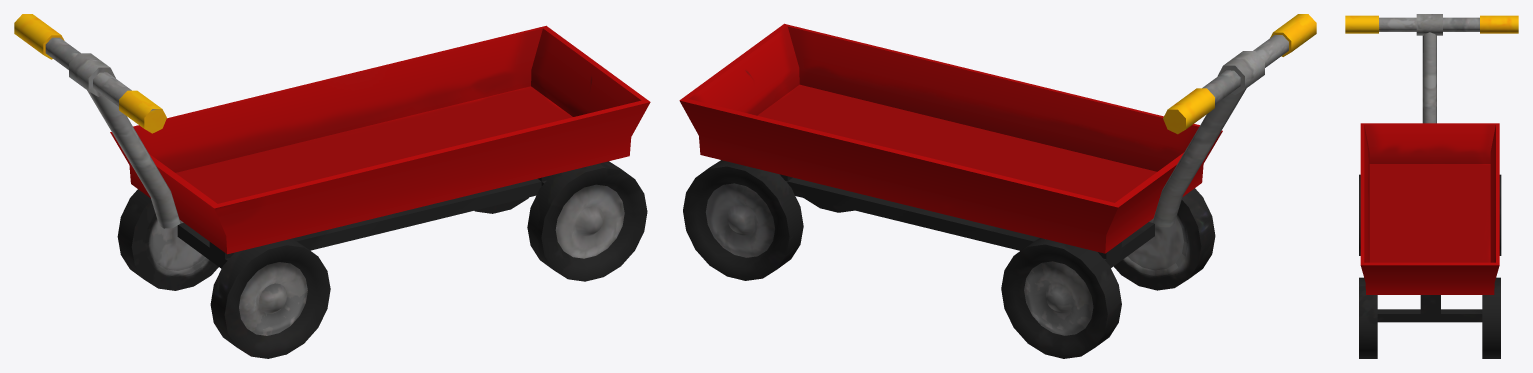
File: Schubwagen 1.FBX
3 views of the same model, side by side, from view 1: azimuth 30°, elevation 25°; view 2: azimuth 150°, elevation 25°; view 3: azimuth 270°, elevation 25° (orthographic). The views are drawn at different scales.
Parts seen in each view (by area): view 1: Schubwagen; view 2: Schubwagen; view 3: Schubwagen.
Boxes of the visible parts, x1,y1,x2,y2 form: Schubwagen: (14,14,650,358); Schubwagen: (679,14,1316,358); Schubwagen: (1345,14,1518,358).
Size of the model in its own units: 100 by 53.57 by 43.43.
